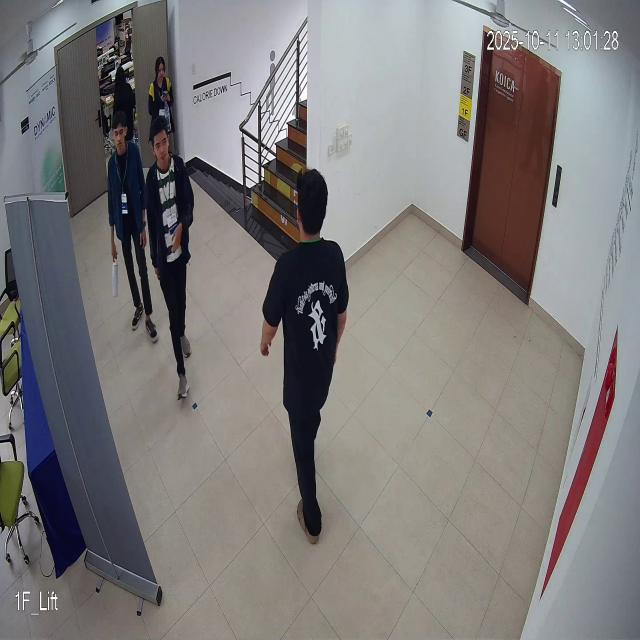face: (148, 112, 177, 174), (112, 109, 129, 155)
